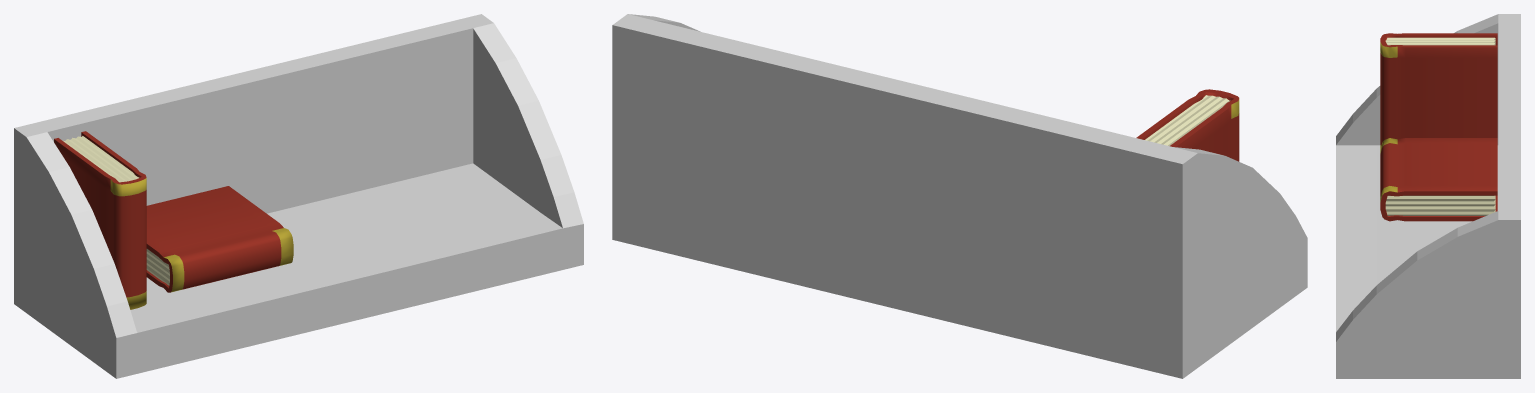
The model's file is shelves_tier2.fbx.
The picture shows the model from 3 angles, left to right: view 1: azimuth 30°, elevation 25°; view 2: azimuth 150°, elevation 25°; view 3: azimuth 270°, elevation 25°; orthographic projection. The views are drawn at different scales.
Parts seen in each view (by area): view 1: Cube, Cube.002, Cube.001; view 2: Cube, Cube.001; view 3: Cube, Cube.001, Cube.002.
Boxes of the visible parts, left/top/right/bottom form: Cube: left=14, top=14, right=583, bottom=378; Cube.002: left=146, top=186, right=293, bottom=292; Cube.001: left=54, top=131, right=146, bottom=309; Cube: left=612, top=14, right=1307, bottom=378; Cube.001: left=1136, top=89, right=1239, bottom=161; Cube: left=1336, top=14, right=1520, bottom=378; Cube.001: left=1380, top=33, right=1497, bottom=148; Cube.002: left=1380, top=138, right=1497, bottom=221.
Size of the model in its own units: 129 by 46.39 by 48.85.
